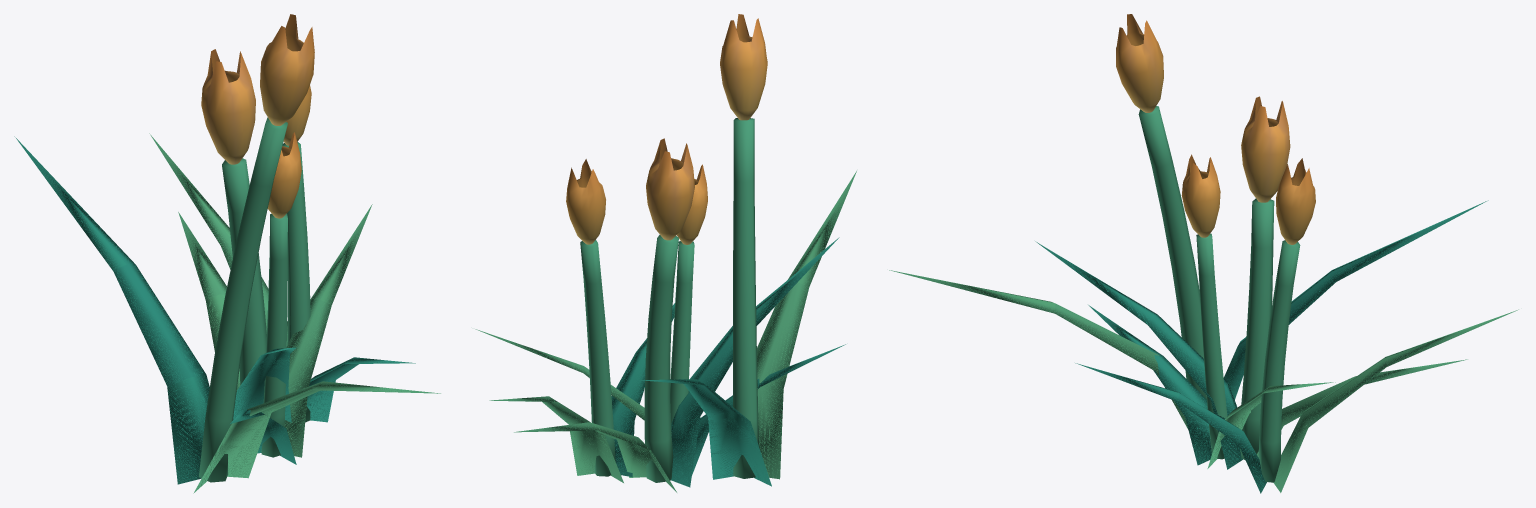
File: verdant_flower_tulip_gold.glb
The picture shows the model from 3 angles, left to right: view 1: azimuth 30°, elevation 25°; view 2: azimuth 150°, elevation 25°; view 3: azimuth 270°, elevation 25°; orthographic projection. The views are drawn at different scales.
Visible parts, largest first — view 1: verdant_flower_tulip_gold; view 2: verdant_flower_tulip_gold; view 3: verdant_flower_tulip_gold.
Boxes of the visible parts, x1,y1,x2,y2 form: verdant_flower_tulip_gold: [14, 14, 440, 493]; verdant_flower_tulip_gold: [475, 14, 856, 492]; verdant_flower_tulip_gold: [889, 14, 1518, 493].
Size of the model in its own units: 0.6013 by 0.9792 by 1.31.
